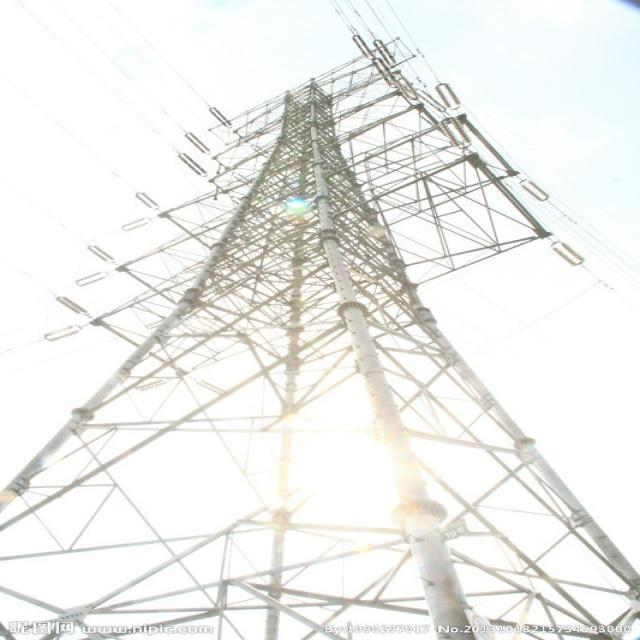non-critical vegetation: (46, 56, 620, 588)
